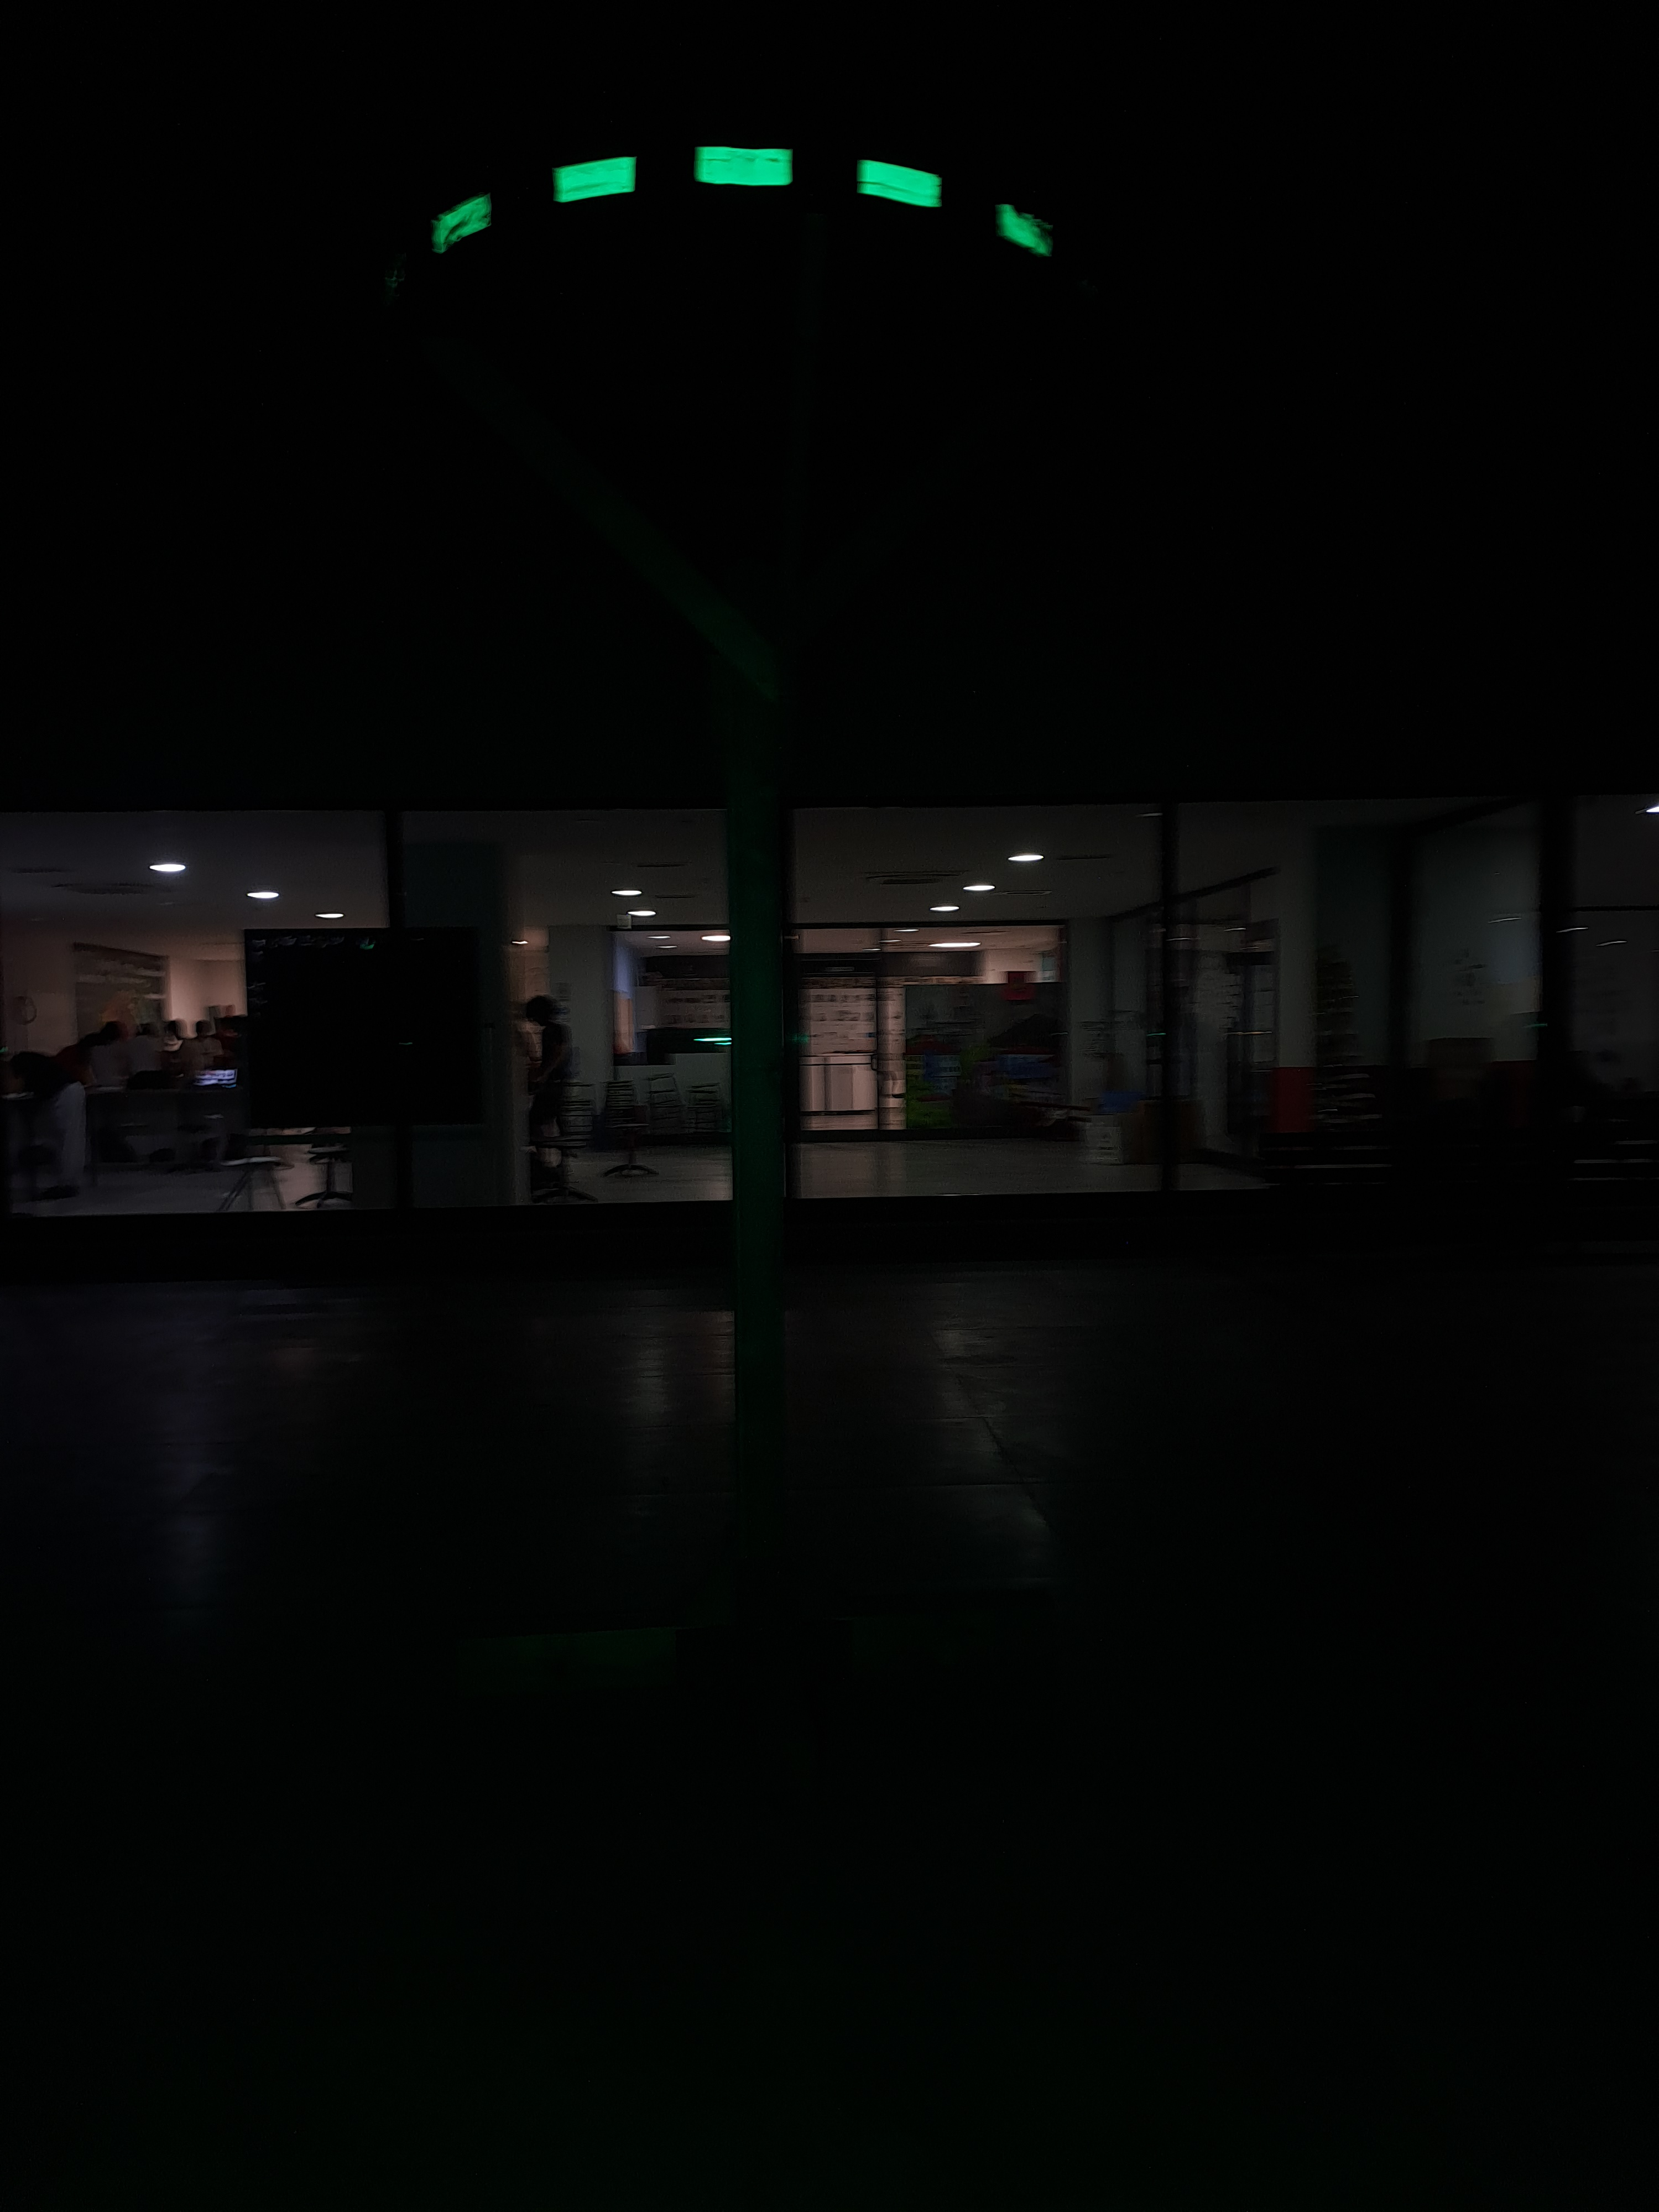hoop: (423, 136, 1056, 265)
